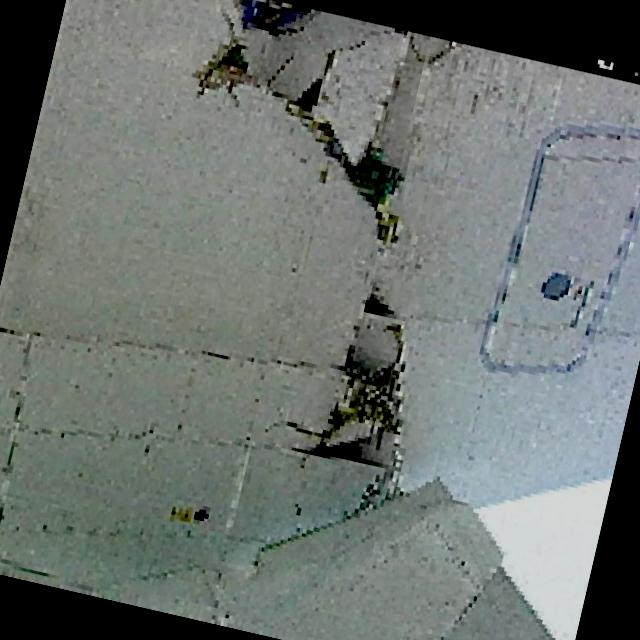crack: (96, 0, 504, 533)
